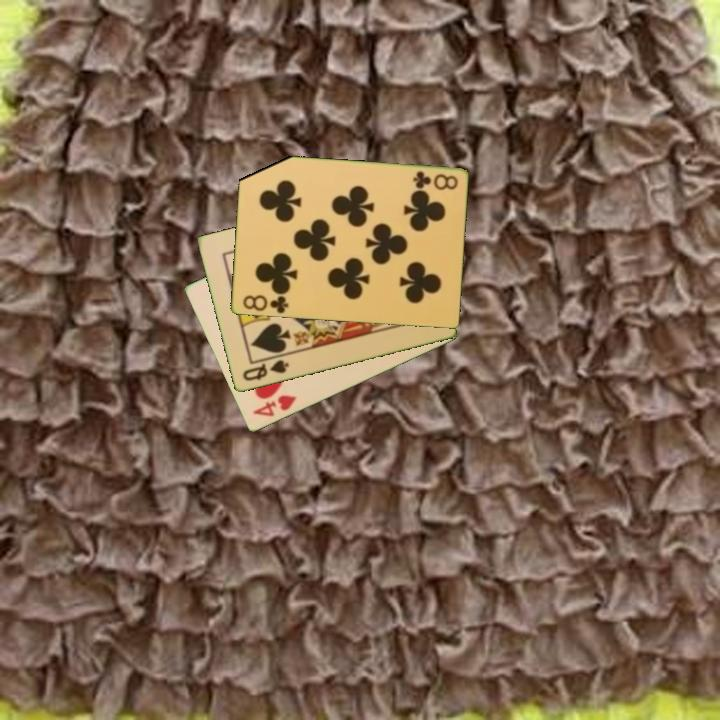4h: (249, 392, 300, 420)
8c: (239, 290, 291, 316), (409, 168, 461, 192)
Qs: (239, 356, 292, 384)
